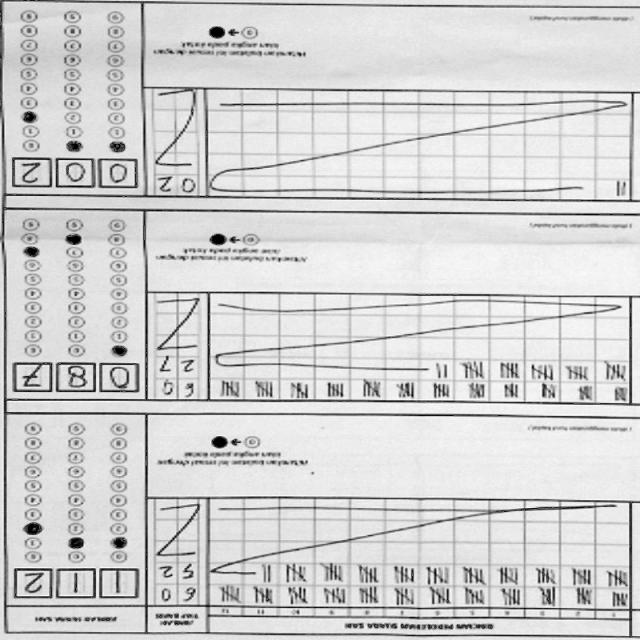Suara: (11, 359, 144, 398), (9, 155, 142, 194), (10, 564, 144, 602)
